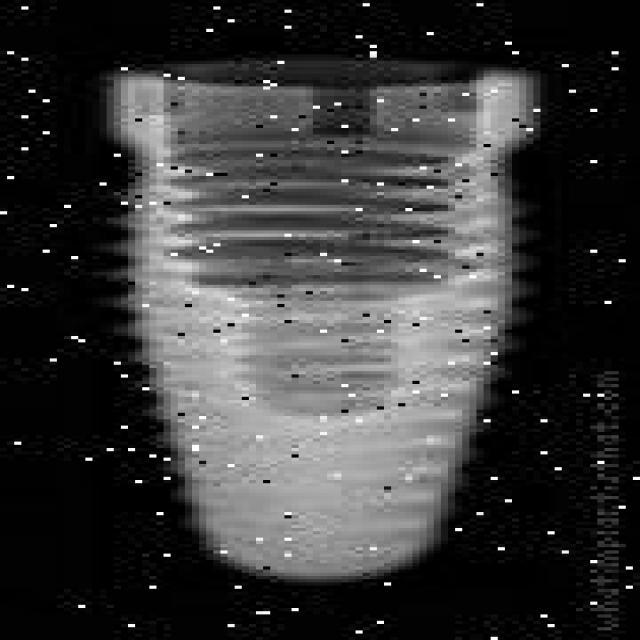Root canal obturation: (100, 58, 548, 592)
